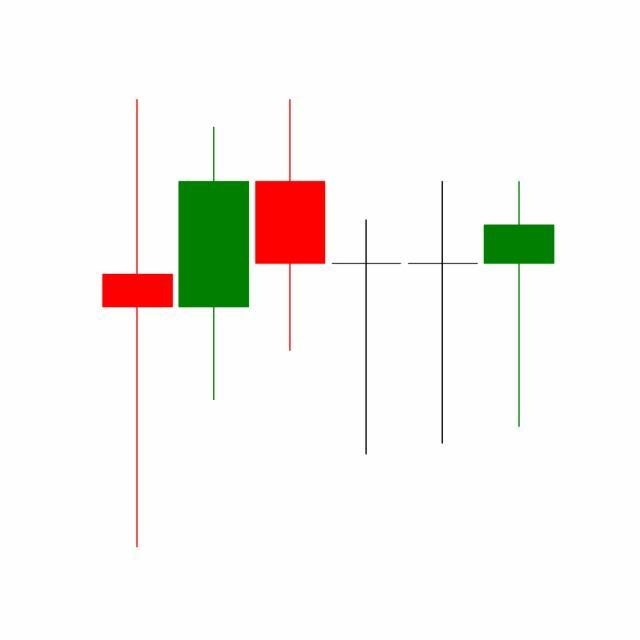Spinning Top: (404, 179, 482, 448)
